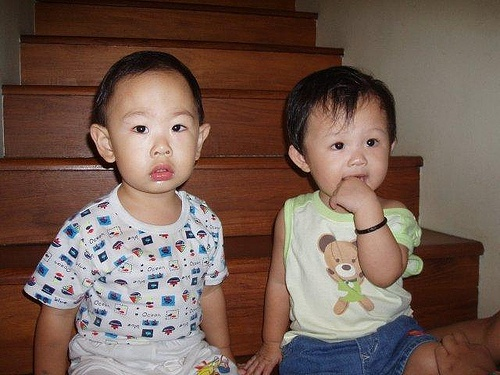head: (88, 46, 211, 202), (284, 66, 399, 195)
person: (20, 51, 264, 368), (240, 62, 479, 375)
